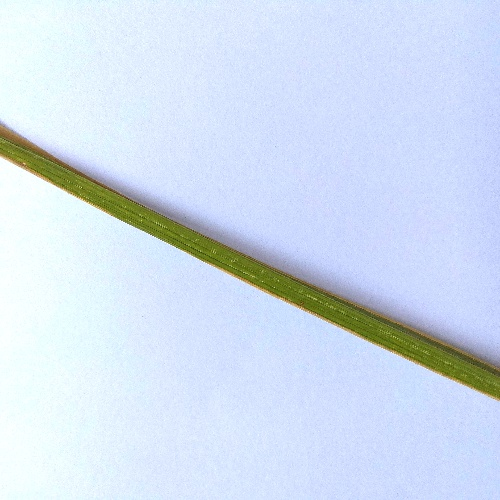Busuk Leher: (442, 334, 500, 371), (30, 171, 64, 193), (2, 153, 32, 173)
